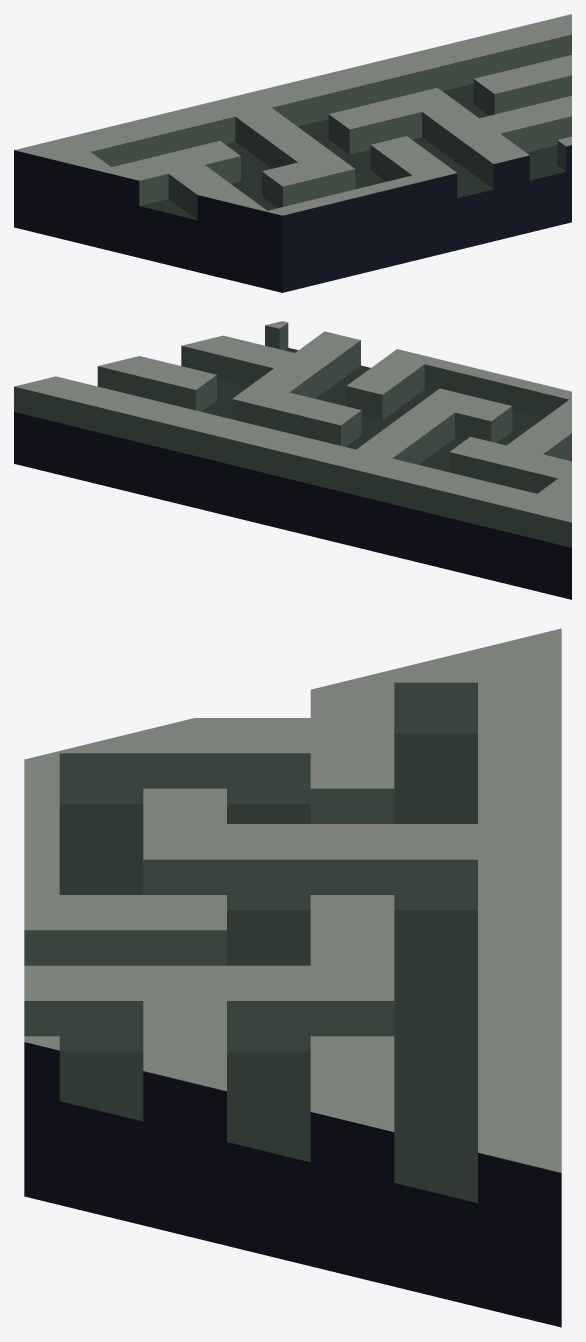
The model's file is SM_Secret_08.fbx.
3 renders of one model, top to bottom at view 1: azimuth 30°, elevation 25°; view 2: azimuth 150°, elevation 25°; view 3: azimuth 270°, elevation 25°, orthographic. The views are drawn at different scales.
Visible parts, largest first — view 1: SM_Secret_08; view 2: SM_Secret_08; view 3: SM_Secret_08.
Part boxes in pixels (bbox=[...]): SM_Secret_08: bbox=[14, 14, 571, 292]; SM_Secret_08: bbox=[14, 321, 571, 599]; SM_Secret_08: bbox=[24, 628, 561, 1327].
Size of the model in its own units: 46.21 by 6.11 by 19.26.
Materials: 1 (1 with a texture image).
